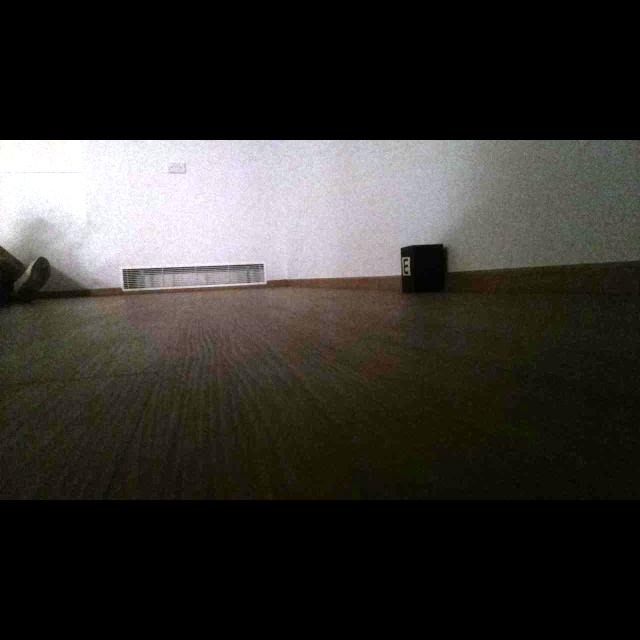E: (403, 258, 408, 274)
